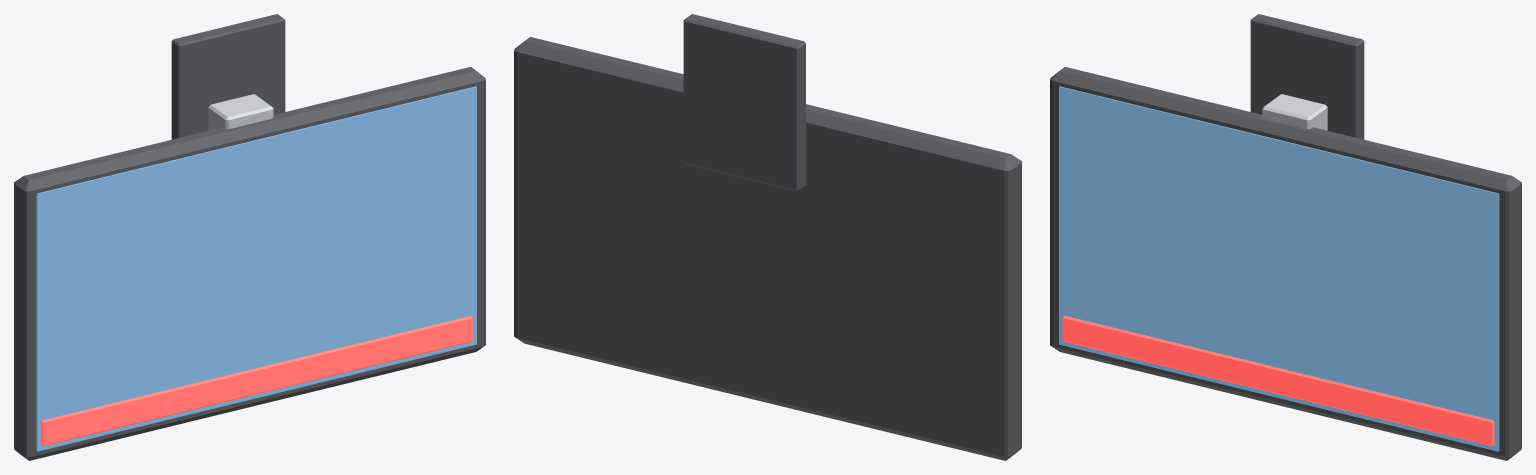
Rendered from escape-room-and-puzzle-venue-hint-screen-wall-panel-18f9cab7__35779.glb.
3 renders of one model, left to right at view 1: azimuth 30°, elevation 25°; view 2: azimuth 150°, elevation 25°; view 3: azimuth 330°, elevation 25°, orthographic. The views are drawn at different scales.
Visible parts, largest first — view 1: screen/screen, screen/dark, hint-screen-wall-panel, screen/signal; view 2: screen/dark, hint-screen-wall-panel; view 3: screen/screen, screen/dark, hint-screen-wall-panel, screen/signal.
Boxes of the visible parts, x1,y1,x2,y2 form: screen/screen: [36, 86, 476, 451]; screen/dark: [14, 67, 485, 460]; hint-screen-wall-panel: [171, 14, 285, 139]; screen/signal: [41, 315, 473, 446]; screen/dark: [514, 37, 1021, 460]; hint-screen-wall-panel: [683, 14, 805, 191]; screen/screen: [1059, 86, 1499, 451]; screen/dark: [1050, 67, 1521, 460]; hint-screen-wall-panel: [1250, 14, 1364, 139]; screen/signal: [1062, 315, 1494, 446].
Bounding box in the file's own units: 0.86 × 0.64 × 0.1096.
